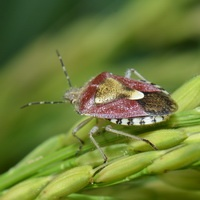insect: (56, 51, 177, 124)
